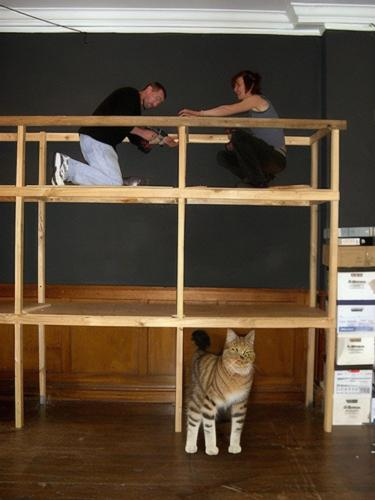cat: (182, 330, 257, 455)
person: (55, 81, 181, 196), (178, 70, 294, 192)
person/foot: (51, 154, 69, 185), (237, 179, 266, 188), (269, 176, 278, 186)
person/hand: (179, 108, 201, 117), (165, 135, 180, 148), (142, 130, 158, 141)
person/head: (234, 70, 259, 99), (141, 83, 166, 111)
